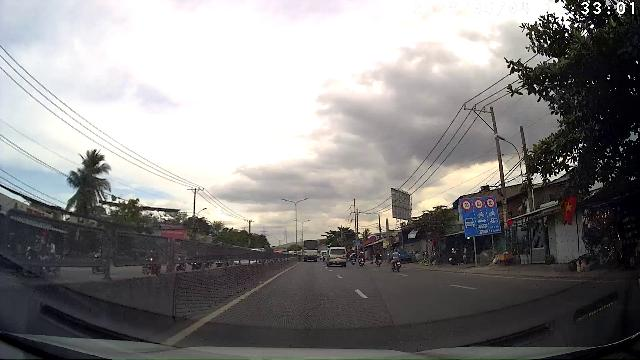127-toc-do-toi-da-60: (461, 200, 472, 211), (485, 197, 496, 208), (474, 199, 484, 209)
